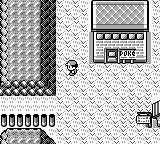leer: (137, 112, 152, 127)
main: (65, 61, 78, 75)
no-caminable: (0, 0, 56, 95), (91, 1, 148, 63), (0, 113, 55, 127), (0, 129, 55, 143), (153, 100, 159, 127)
puerta: (106, 49, 118, 63)
